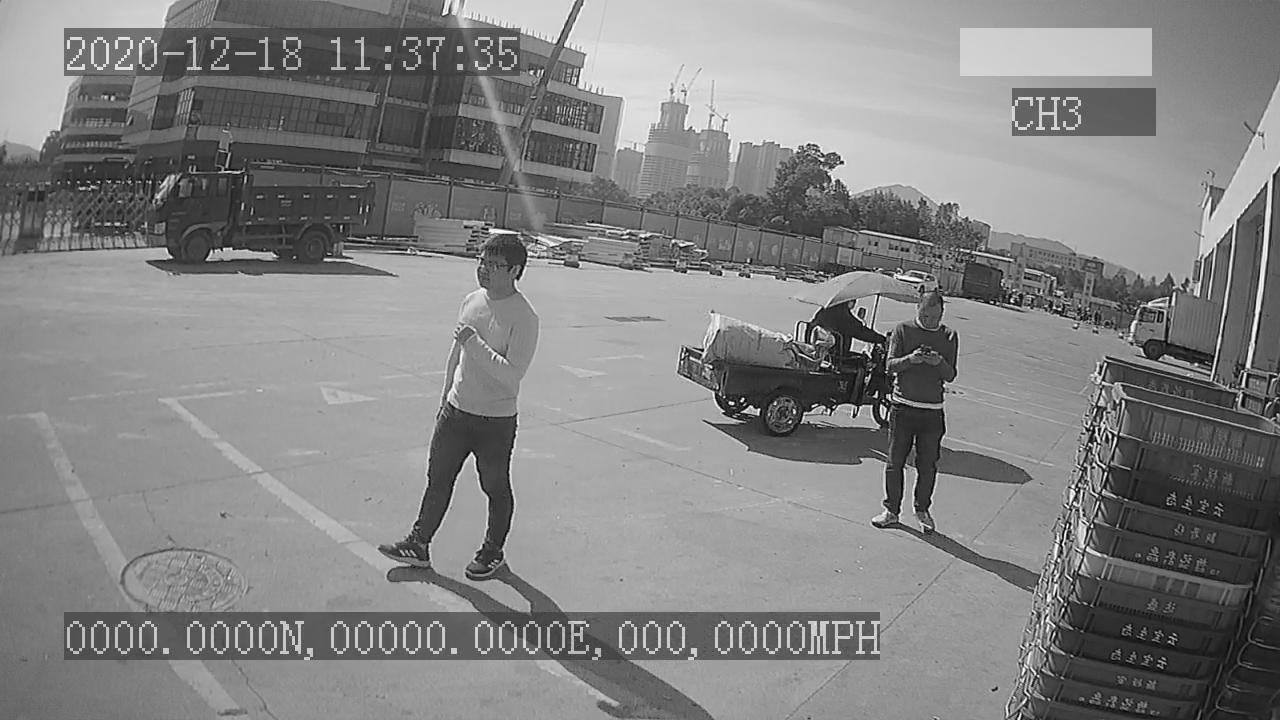person: (378, 233, 543, 584)
